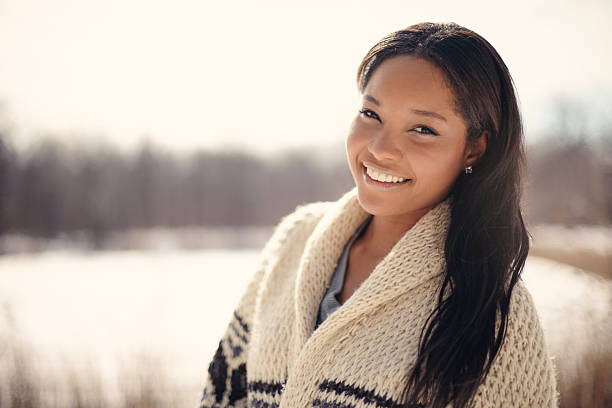face: (357, 90, 464, 216)
